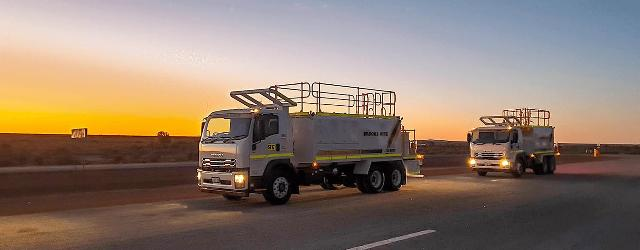truck: (176, 75, 447, 215)
